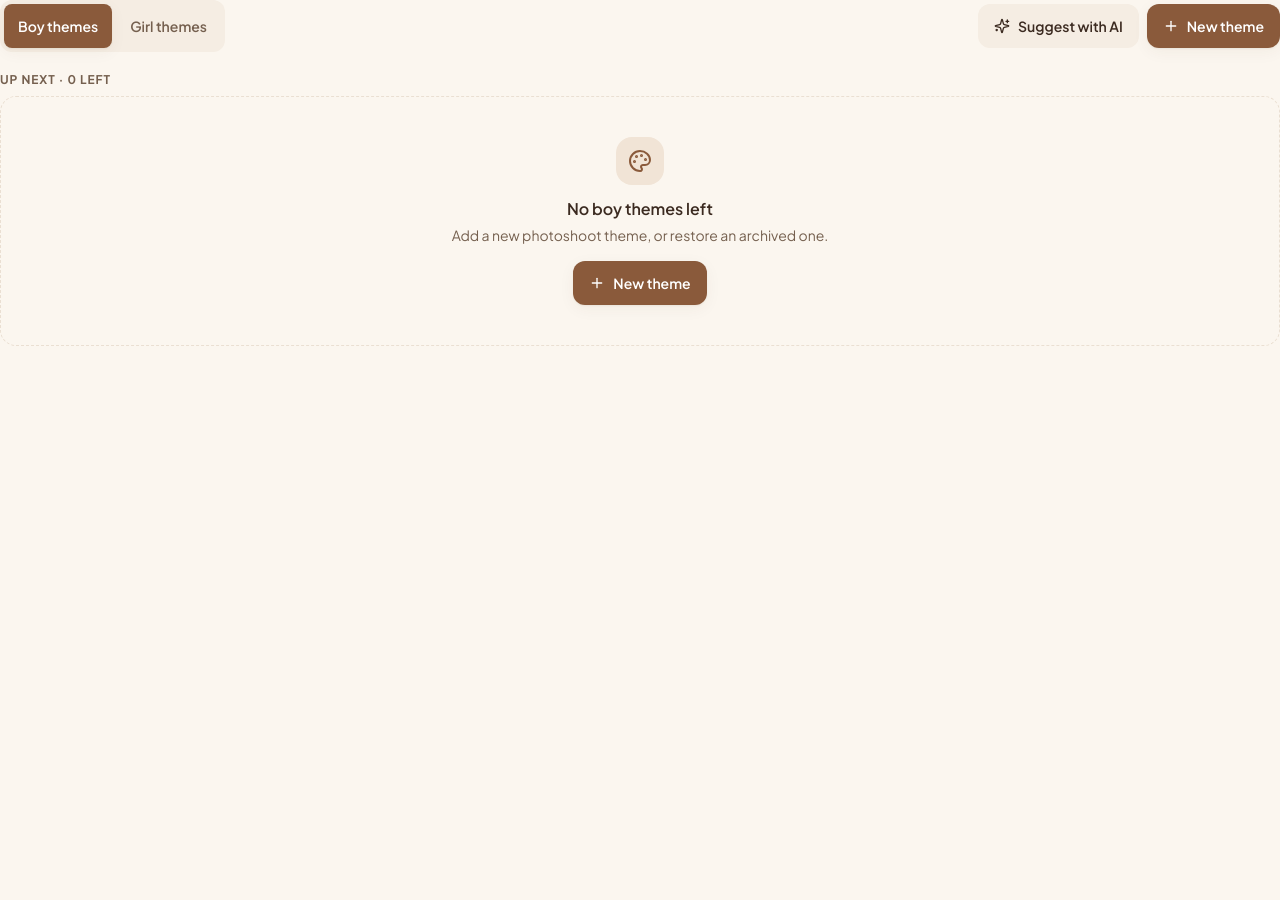
Test: Themes: pending approval section › Suggest with AI defaults to the gender being viewed
The image size is (1280, 900).
Step 1. Click the radio button labelled "Girl themes" → point(169, 26), box [116,4,221,48]
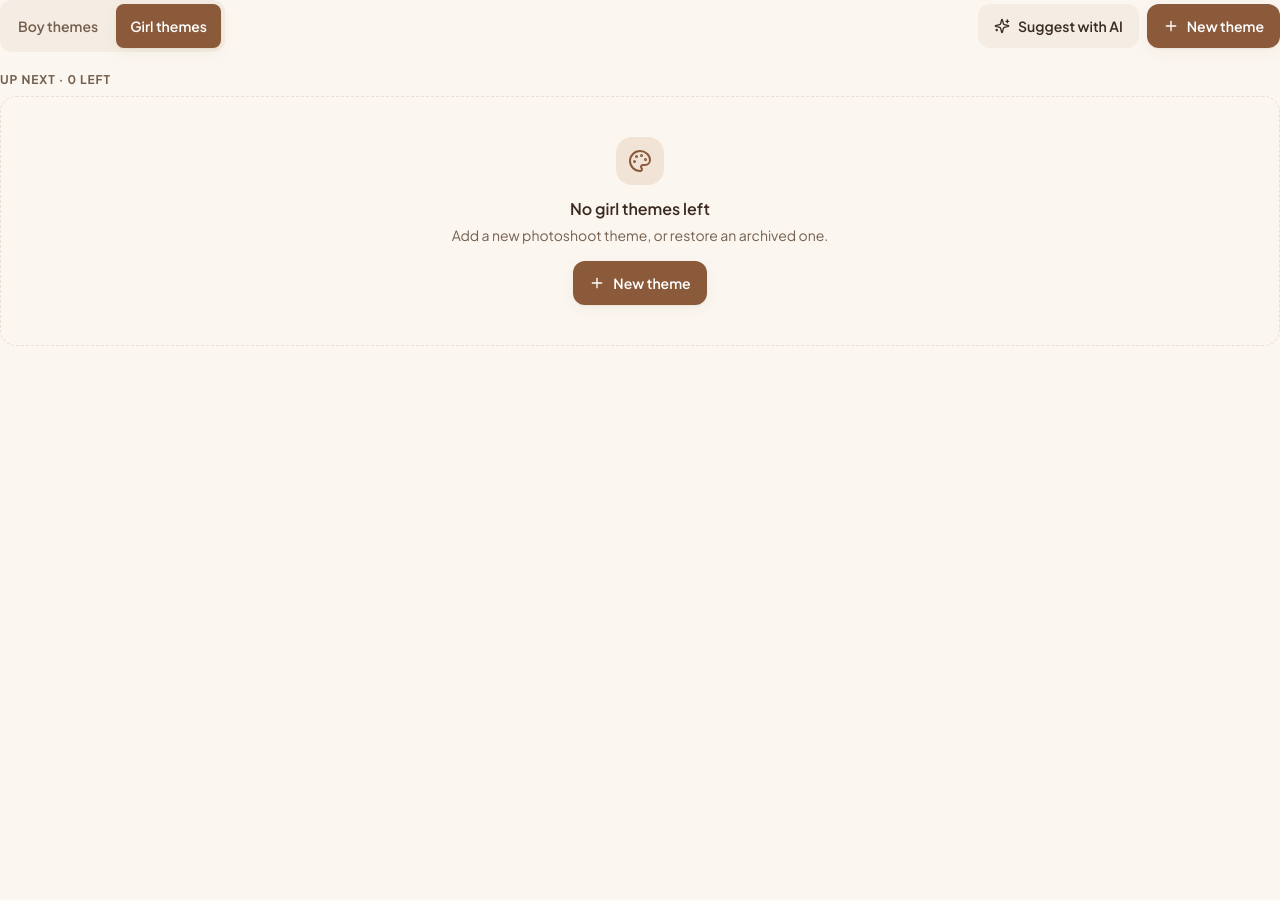
Step 2. Click the button "Suggest with AI" → point(1058, 26), box [978,4,1139,48]
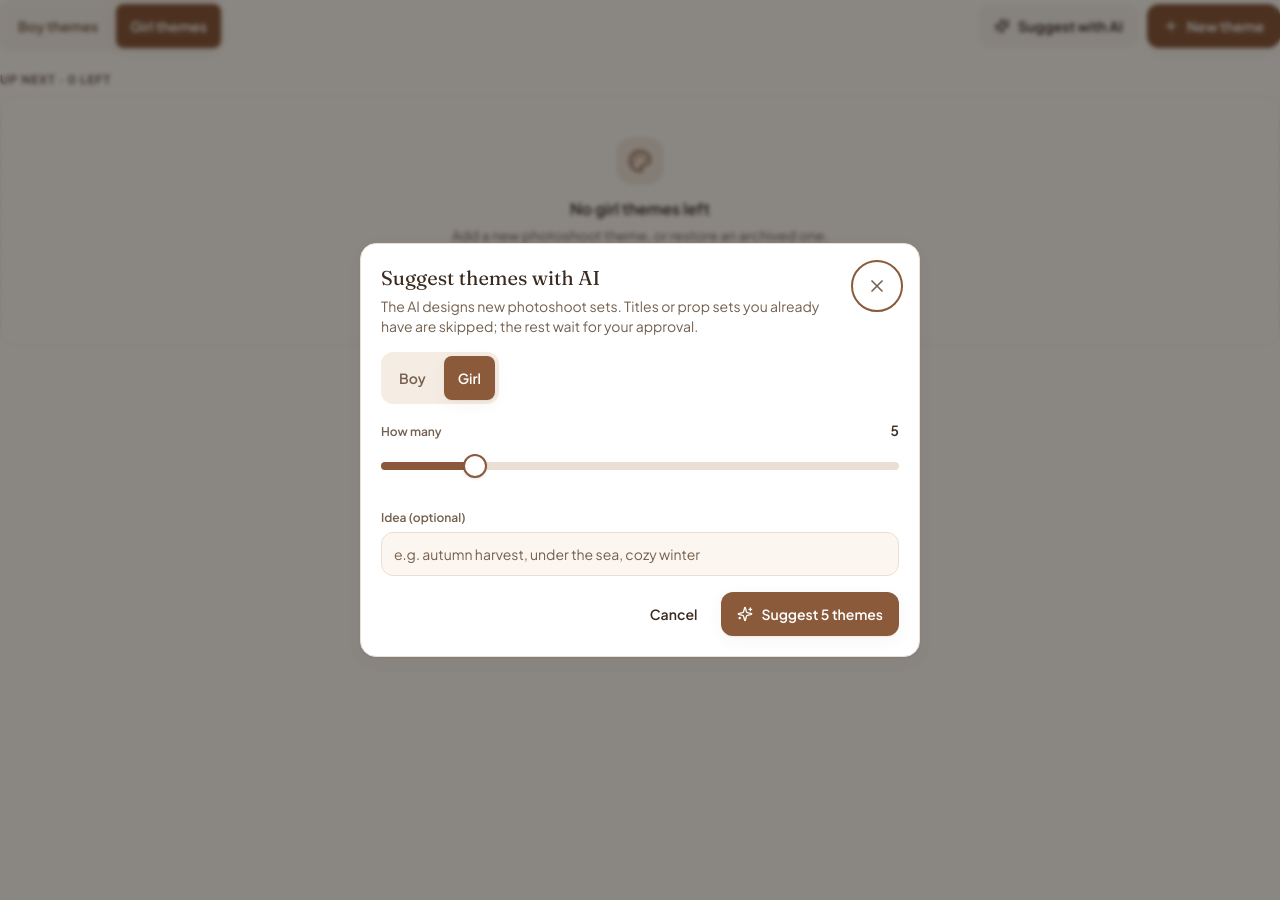
Step 3. Click the button "Suggest 5 themes" → point(810, 614), box [721,592,899,636]
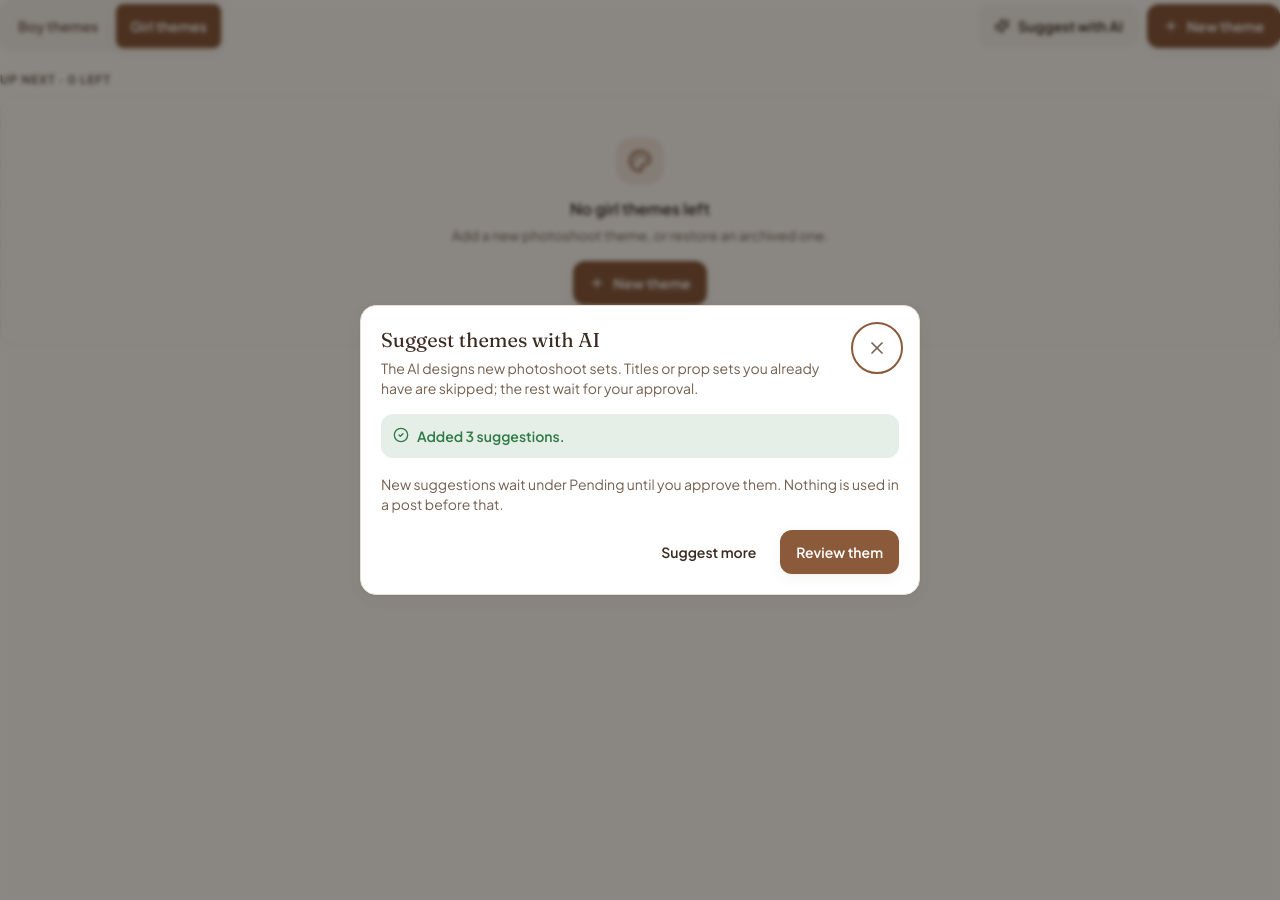
Check: the text "Added 3 suggestions." is shown, box [417,426,564,446]
